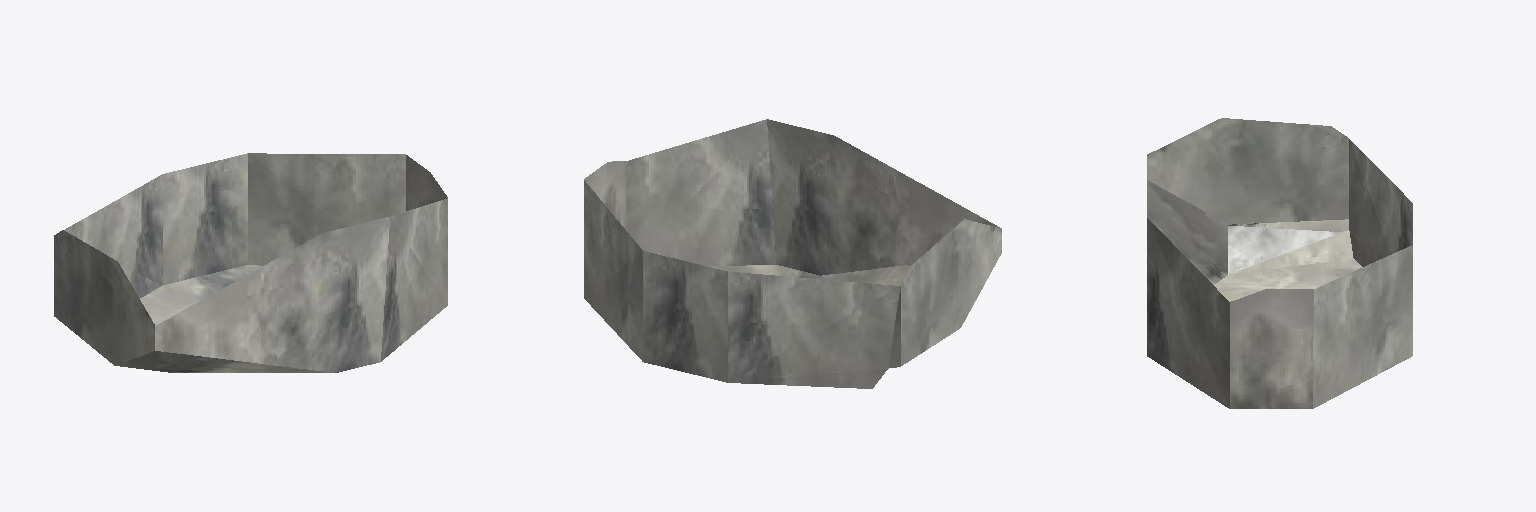
3 renders of one model, left to right at view 1: azimuth 30°, elevation 25°; view 2: azimuth 150°, elevation 25°; view 3: azimuth 270°, elevation 25°, orthographic.
Parts seen in each view (by area): view 1: Mesh1 Model; view 2: Mesh1 Model; view 3: Mesh1 Model.
Boxes of the visible parts, <box> form: Mesh1 Model: <box>54,153,447,372</box>; Mesh1 Model: <box>584,119,1001,388</box>; Mesh1 Model: <box>1147,118,1412,408</box>.
Bounding box in the file's own units: 2.42 × 0.99 × 1.67.
1 materials, 1 textured.